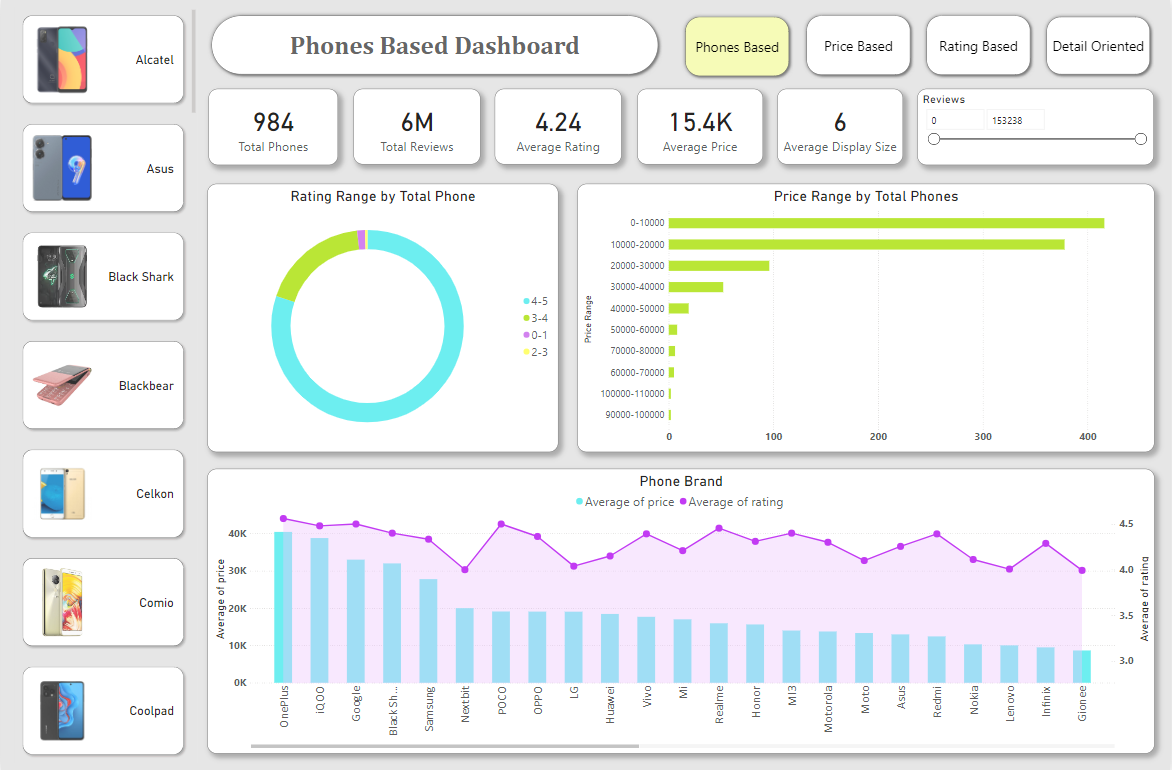

The page's visual inventory and layout, read from the dashboard file:
{"tool":"powerbi","page":{"name":"Phones Based Dashboard","canvas":[2500,1650],"ordinal":0},"visuals":[{"type":"advancedSlicerVisual","fields":{"Values":["Phone Brands Processed Data (2).Phone Brand"]},"box":[30.2,16.9,391.3,1614.1],"z":0,"group":"g1"},{"type":"shape","box":[1712.3,23,240,145],"z":0,"group":"g2"},{"type":"shape","title":"Title","box":[440.2,24.5,972.8,144],"z":0},{"type":"shape","box":[1453.8,24.5,240,145],"z":1000,"group":"g2"},{"type":"card","fields":{"Values":["Phone Brands Processed Data (2).Total Phones"]},"box":[443.2,189.4,277.2,163],"z":1000,"group":"g1"},{"type":"donutChart","title":"Rating Range by Total Phone","fields":{"Category":["Phone Brands Processed Data (2).rating range"],"Y":["Phone Brands Processed Data (2).Total Phones"]},"box":[440.2,394,750,573.4],"z":1000},{"type":"shape","box":[1968.9,23,240,145],"z":2000,"group":"g2"},{"type":"card","fields":{"Values":["Phone Brands Processed Data (2).Total Reviews"]},"box":[753.3,191.7,271.3,161.8],"z":2000,"group":"g1"},{"type":"clusteredBarChart","title":"Price Range by Total Phones","fields":{"Category":["Phone Brands Processed Data (2).price range"],"Y":["Phone Brands Processed Data (2).Total Phones"]},"box":[1231,394,1233.7,573.4],"z":2000},{"type":"shape","box":[2225.5,24.5,239.1,141.3],"z":3000,"group":"g2"},{"type":"card","fields":{"Values":["Phone Brands Processed Data (2).Average Rating"]},"box":[1056.8,191.7,271.3,161.8],"z":3000,"group":"g1"},{"type":"lineClusteredColumnComboChart","title":"Phone Brand","fields":{"Category":["Phone Brands Processed Data (2).Phone Brand"],"Y":["Avg(Phone Brands Processed Data (2).price)"],"Y2":["Avg(Phone Brands Processed Data (2).rating)"]},"box":[440.2,1002.7,2024.5,608.7],"z":3000},{"type":"group","id":"g1","title":"Border","box":[30.2,16.9,2435.5,1614.1],"z":4000},{"type":"card","fields":{"Values":["Phone Brands Processed Data (2).Average Price"]},"box":[1360.2,191.7,268.7,161.8],"z":4000,"group":"g1"},{"type":"group","id":"g2","title":"Page Navigation Bar","box":[1453.8,23,1010.9,146.5],"z":5000},{"type":"card","fields":{"Values":["Phone Brands Processed Data (2).Average Display Size"]},"box":[1661.1,191.7,268.7,161.8],"z":5000,"group":"g1"},{"type":"slicer","title":"Reviews","fields":{"Values":["Phone Brands Processed Data (2).reviews"]},"box":[1960.3,191.6,505.4,163],"z":6000,"group":"g1"}]}

Visuals, with their boxes in screenshot pixels (x1, y1, x2, y2), scaled from the page's 2500x1650 canvas onto the 1172x770 screenshot:
advancedSlicerVisual - Phone Brands Processed Data (2).Phone Brand: (left=14, top=8, right=198, bottom=761)
shape: (left=803, top=11, right=915, bottom=78)
"Title" shape: (left=206, top=11, right=662, bottom=79)
shape: (left=682, top=11, right=794, bottom=79)
card - Phone Brands Processed Data (2).Total Phones: (left=208, top=88, right=338, bottom=164)
"Rating Range by Total Phone" donutChart: (left=206, top=184, right=558, bottom=451)
shape: (left=923, top=11, right=1036, bottom=78)
card - Phone Brands Processed Data (2).Total Reviews: (left=353, top=89, right=480, bottom=165)
"Price Range by Total Phones" clusteredBarChart: (left=577, top=184, right=1155, bottom=451)
shape: (left=1043, top=11, right=1155, bottom=77)
card - Phone Brands Processed Data (2).Average Rating: (left=495, top=89, right=623, bottom=165)
"Phone Brand" lineClusteredColumnComboChart: (left=206, top=468, right=1155, bottom=752)
"Border" group: (left=14, top=8, right=1156, bottom=761)
card - Phone Brands Processed Data (2).Average Price: (left=638, top=89, right=764, bottom=165)
"Page Navigation Bar" group: (left=682, top=11, right=1155, bottom=79)
card - Phone Brands Processed Data (2).Average Display Size: (left=779, top=89, right=905, bottom=165)
"Reviews" slicer: (left=919, top=89, right=1156, bottom=165)
